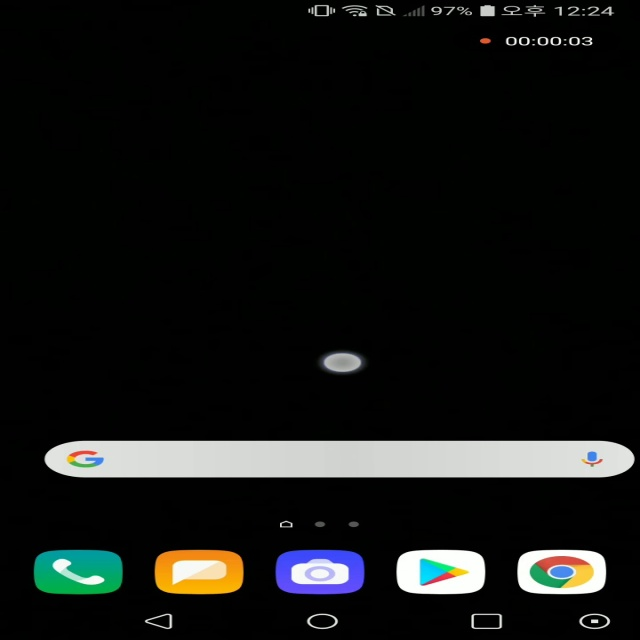Cursor: (321, 352, 366, 375)
